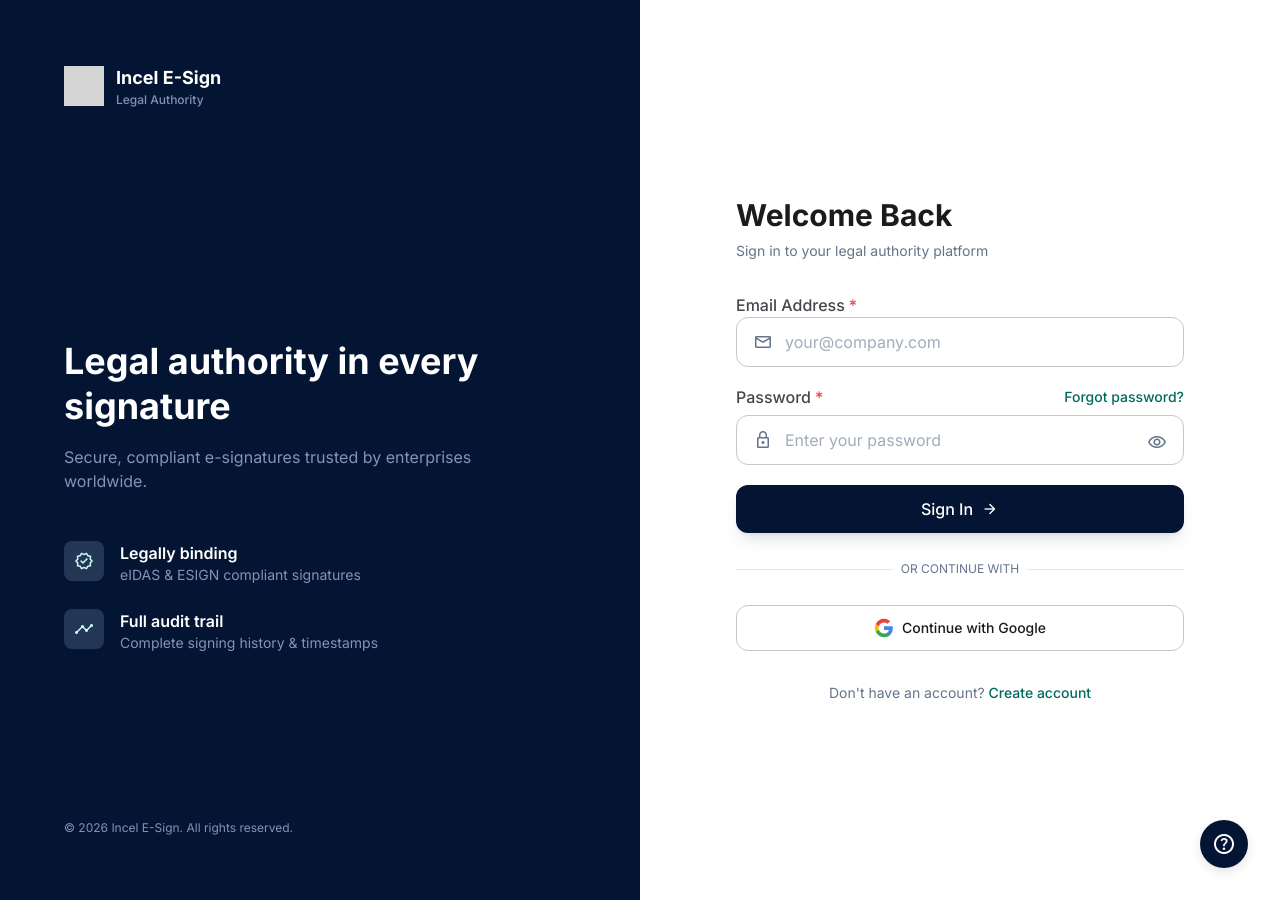
Test case: LoginPage › shows validation error for short password
Type "test@example.com" into the field labelled "Email Address*" at {"x": 960, "y": 342}, box [737,318,1183,366]
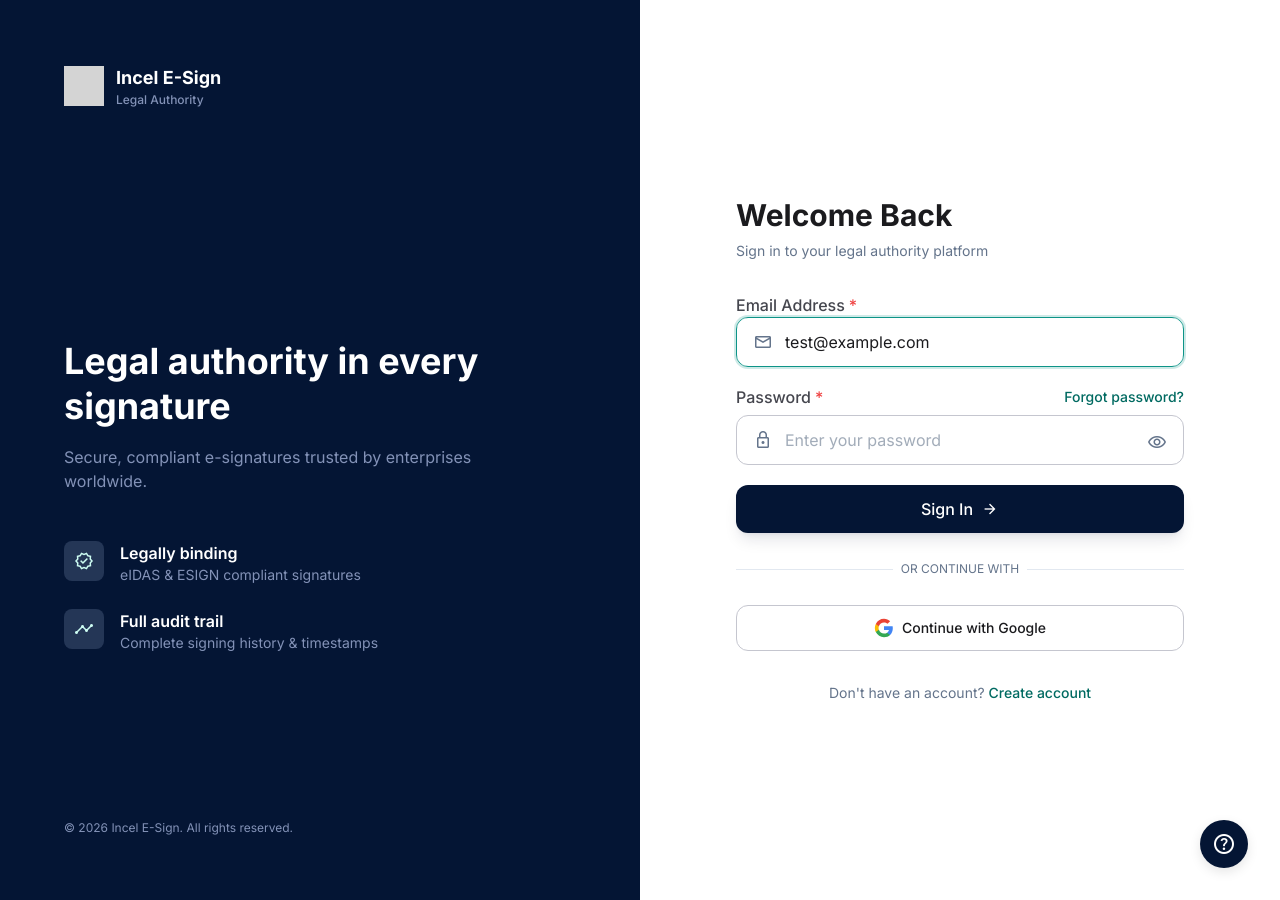
Type "123" into the password field labelled "Password*" at {"x": 960, "y": 440}, box [737,416,1183,464]
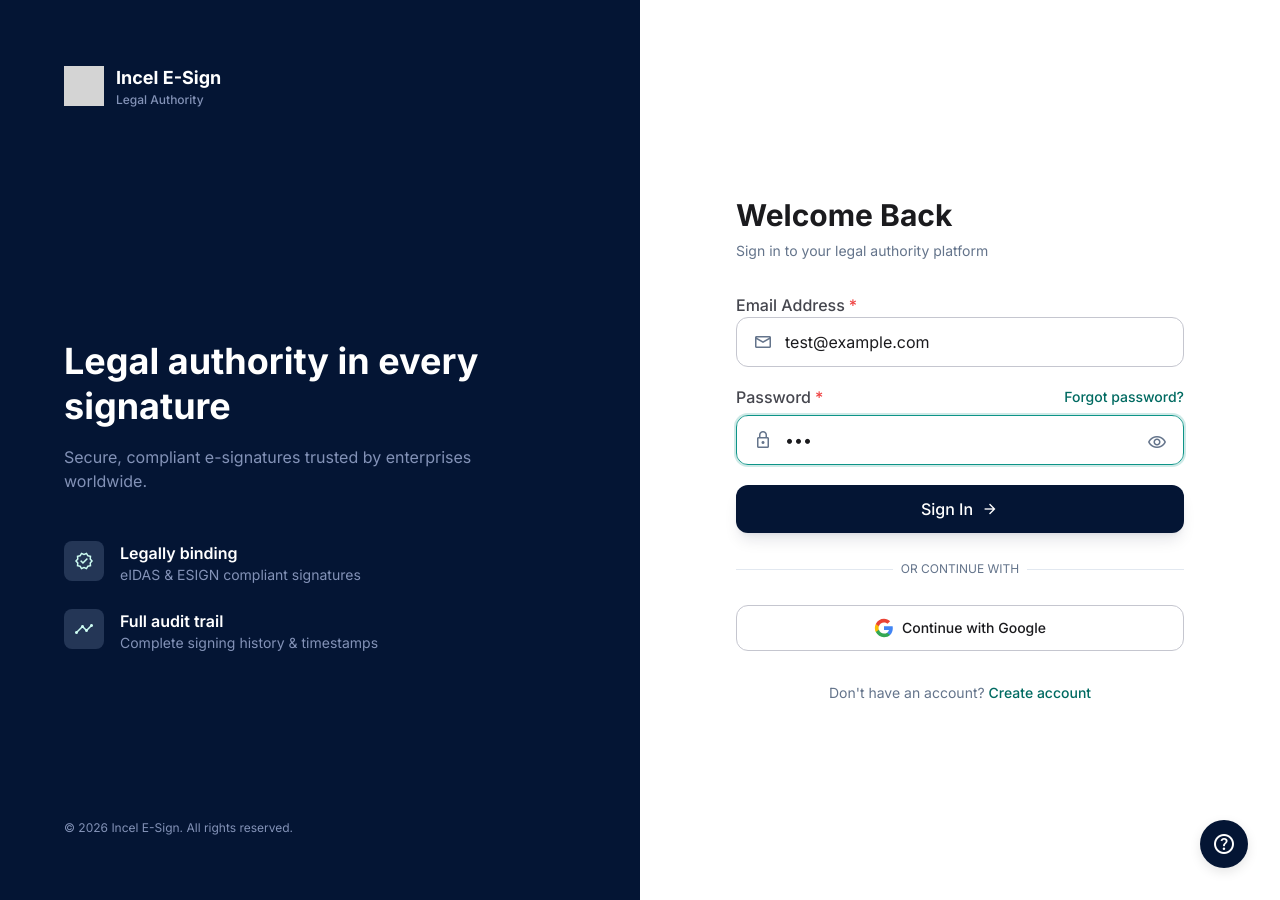
Click the button "Sign In" at {"x": 960, "y": 509}, box [736,485,1184,533]
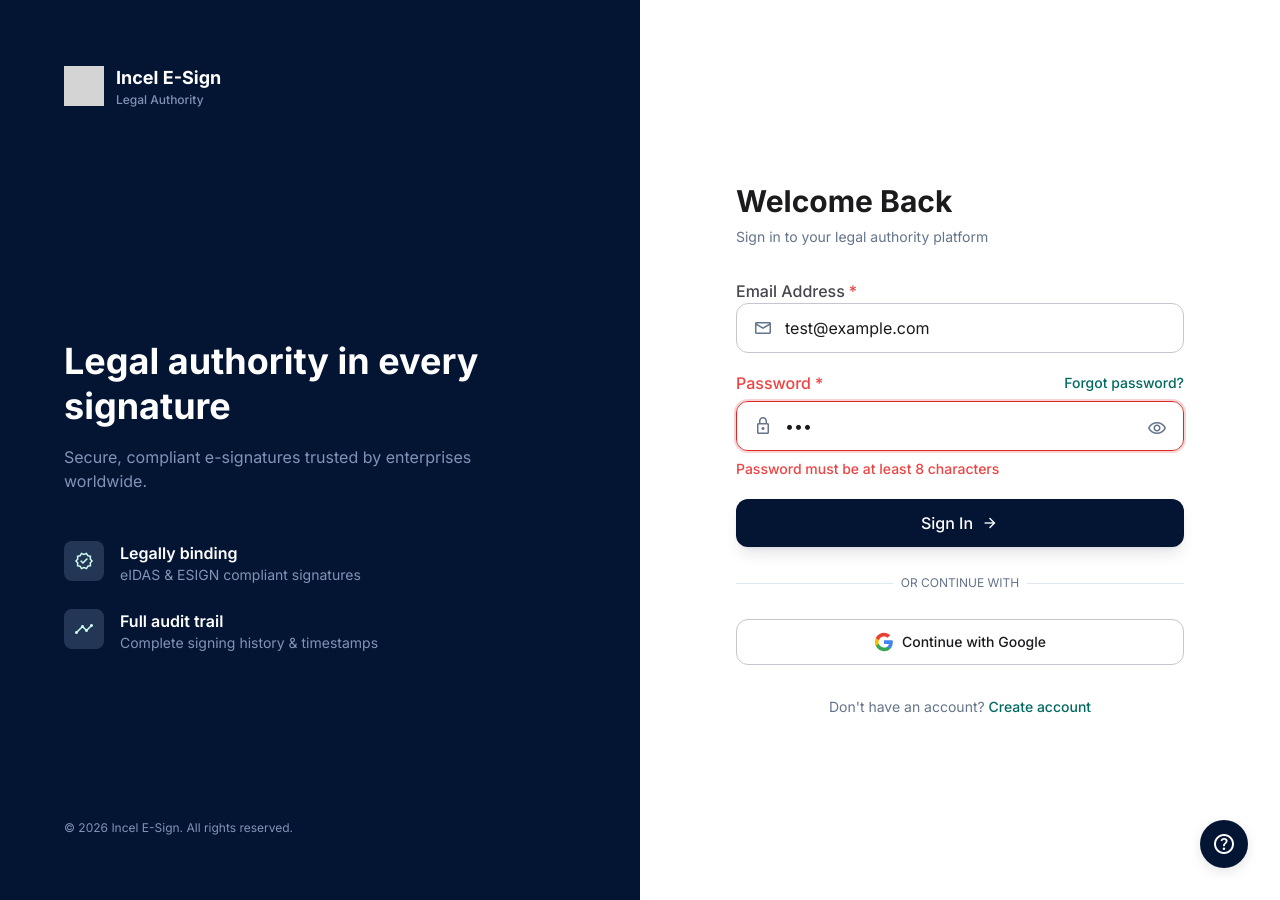
Expected: the text "Password must be at least 8 characters" is shown, [736,460,999,477]
